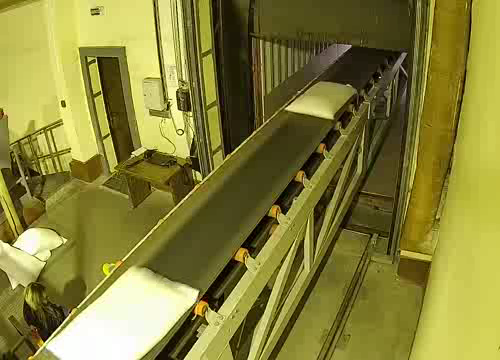bag: (41, 261, 205, 360), (280, 76, 364, 122)
